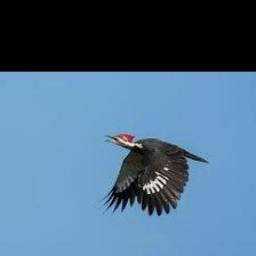Woodpecker: (98, 133, 209, 217)
